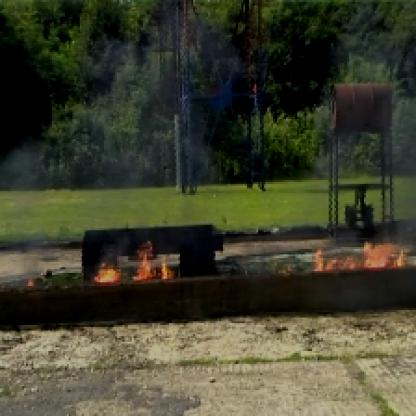Fire: (286, 236, 412, 290), (93, 243, 189, 288), (20, 273, 36, 292)
Smoke: (15, 15, 236, 243), (331, 2, 414, 241)
